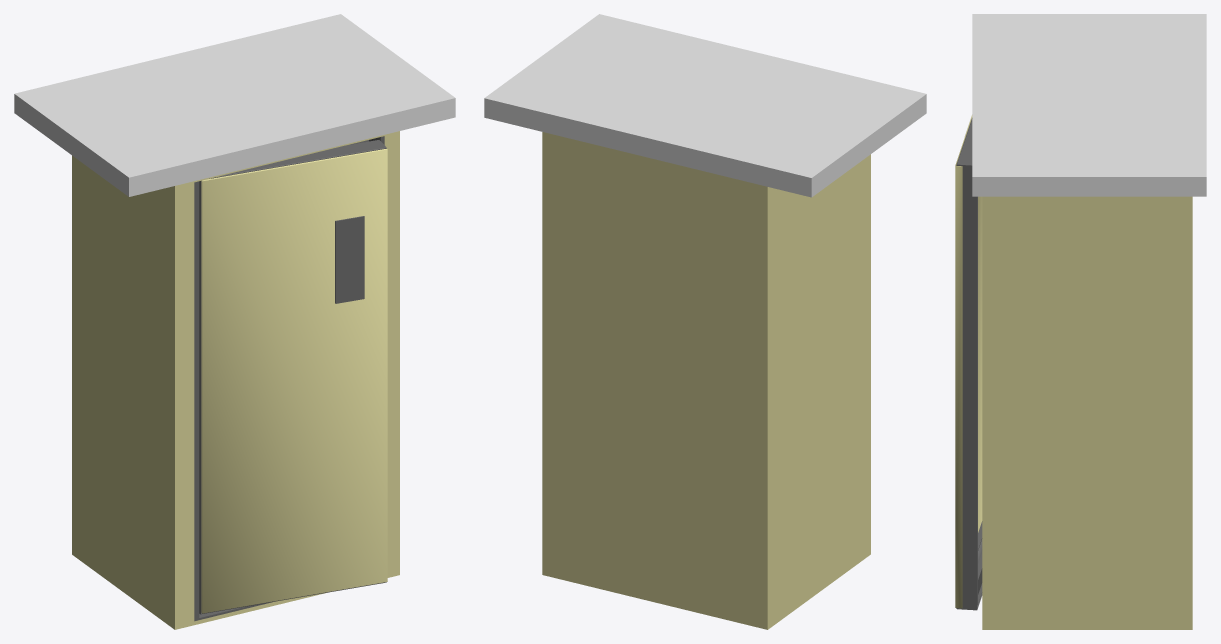
Rendered from Counter Small.glb.
The picture shows the model from 3 angles, left to right: view 1: azimuth 30°, elevation 25°; view 2: azimuth 150°, elevation 25°; view 3: azimuth 270°, elevation 25°; orthographic projection. The views are drawn at different scales.
Parts seen in each view (by area): view 1: Verso Visuel 21; view 2: Verso Visuel 21; view 3: Verso Visuel 21.
Part boxes in pixels (x1,y1,x2,y2): Verso Visuel 21: [14, 14, 455, 629]; Verso Visuel 21: [484, 14, 926, 629]; Verso Visuel 21: [955, 14, 1206, 629].
Size of the model in its own units: 0.7307 by 1 by 0.477.
